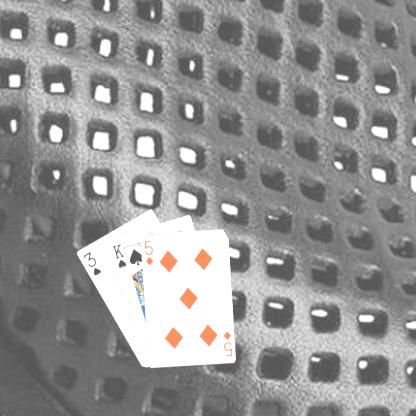3S: (80, 249, 102, 277)
5D: (220, 328, 233, 357), (142, 238, 154, 266)
KS: (109, 241, 128, 270)
